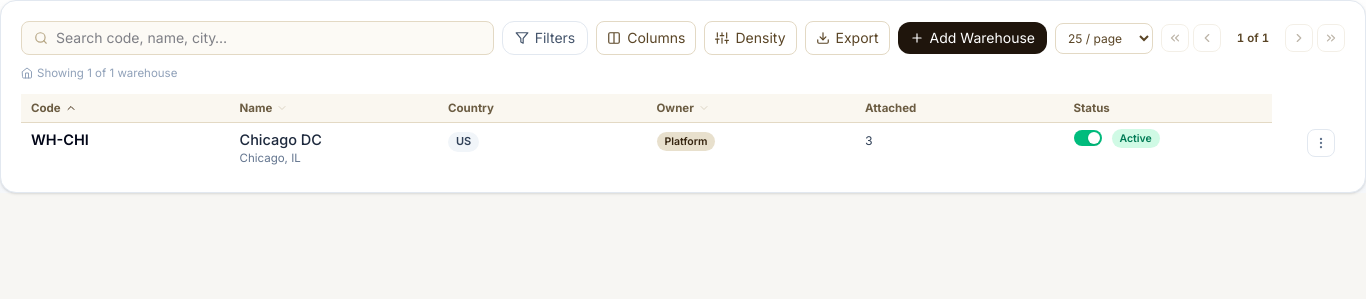
Test: WarehousesPage · role gating › per-row kebab: ADMIN sees Delete + Edit + Attach clients (platform-owned row)
Expected: the text "WH-CHI" is shown, left=31, top=131, right=89, bottom=148
Click the button named "Row actions". click: (1321, 143)
box: left=1307, top=129, right=1335, bottom=157
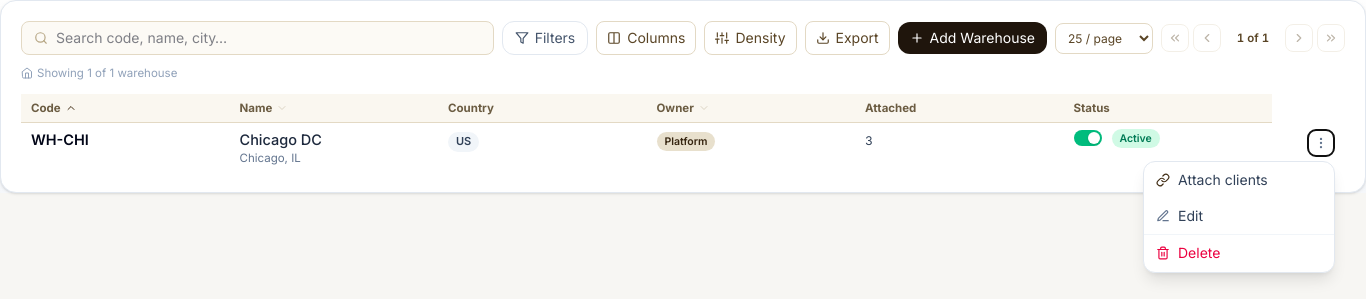
Result: the menu item "Delete" is shown at left=1144, top=234, right=1334, bottom=272
Result: the menu item "Edit" is shown at left=1144, top=198, right=1334, bottom=234
Result: the menu item "Attach clients" is shown at left=1144, top=162, right=1334, bottom=198
